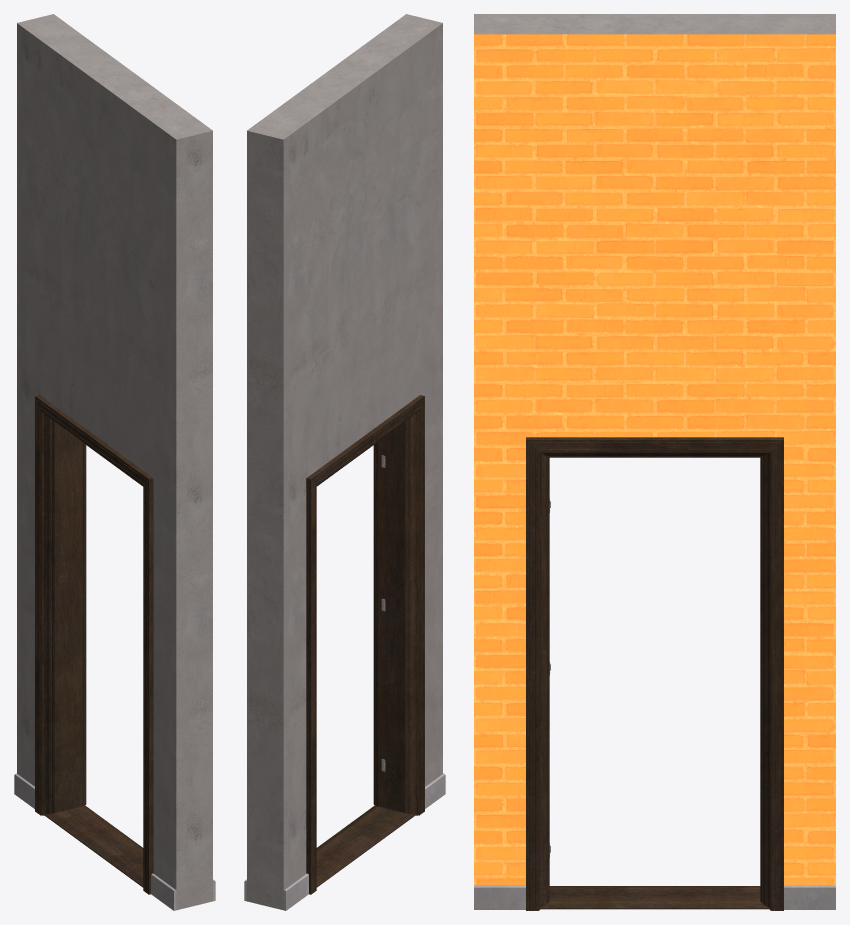
The model's file is SM_Wall_Door_1_5x3_5_01a.fbx.
3 renders of one model, left to right at view 1: azimuth 30°, elevation 25°; view 2: azimuth 150°, elevation 25°; view 3: azimuth 270°, elevation 25°, orthographic. The views are drawn at different scales.
Parts seen in each view (by area): view 1: SM_Wall_Door_1_5x3_5_01a_LOD0; view 2: SM_Wall_Door_1_5x3_5_01a_LOD0; view 3: SM_Wall_Door_1_5x3_5_01a_LOD0.
Part boxes in pixels (left/top/right/bottom): SM_Wall_Door_1_5x3_5_01a_LOD0: left=14, top=14, right=215, bottom=910; SM_Wall_Door_1_5x3_5_01a_LOD0: left=244, top=14, right=445, bottom=910; SM_Wall_Door_1_5x3_5_01a_LOD0: left=474, top=14, right=835, bottom=910.
Bounding box in the file's own units: 24.93 × 150 × 400.
